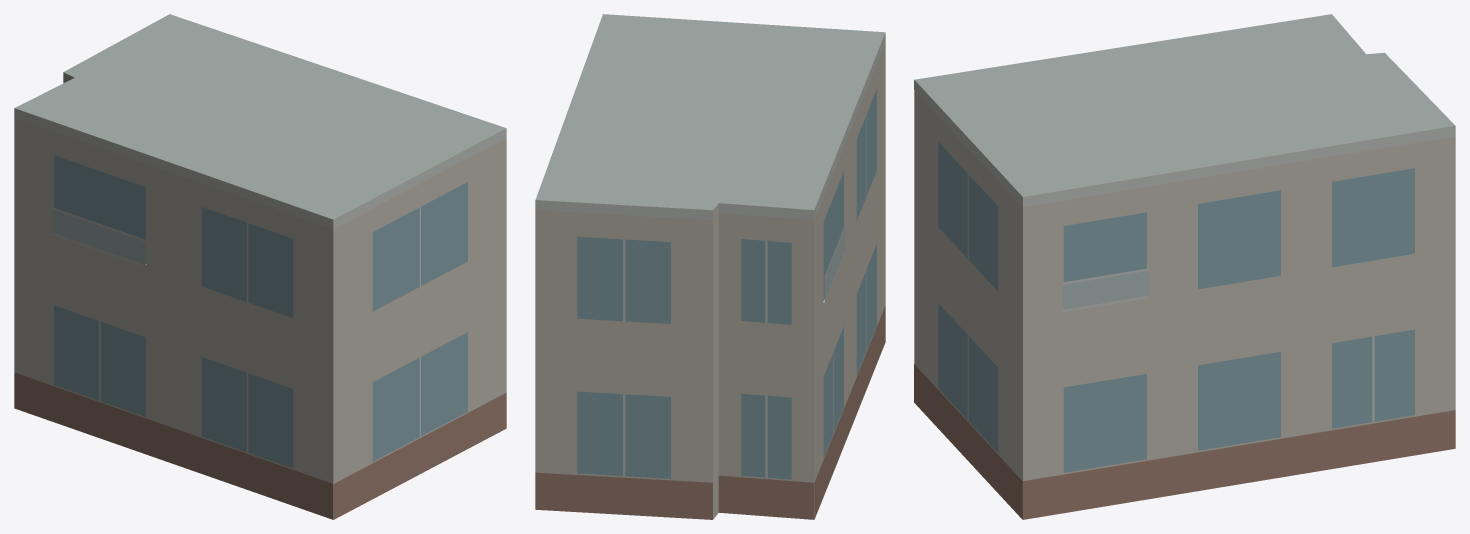
Rendered from survey-upis-32545627.glb.
The picture shows the model from 3 angles, left to right: view 1: azimuth 30°, elevation 25°; view 2: azimuth 150°, elevation 25°; view 3: azimuth 270°, elevation 25°; orthographic projection. The views are drawn at different scales.
Parts seen in each view (by area): view 1: survey-upis-32545627.tmp; view 2: survey-upis-32545627.tmp; view 3: survey-upis-32545627.tmp.
Part boxes in pixels (bbox=[...]): survey-upis-32545627.tmp: bbox=[14, 14, 506, 519]; survey-upis-32545627.tmp: bbox=[535, 14, 885, 519]; survey-upis-32545627.tmp: bbox=[914, 14, 1455, 519].
Size of the model in its own units: 9.25 by 7.6 by 11.56.
